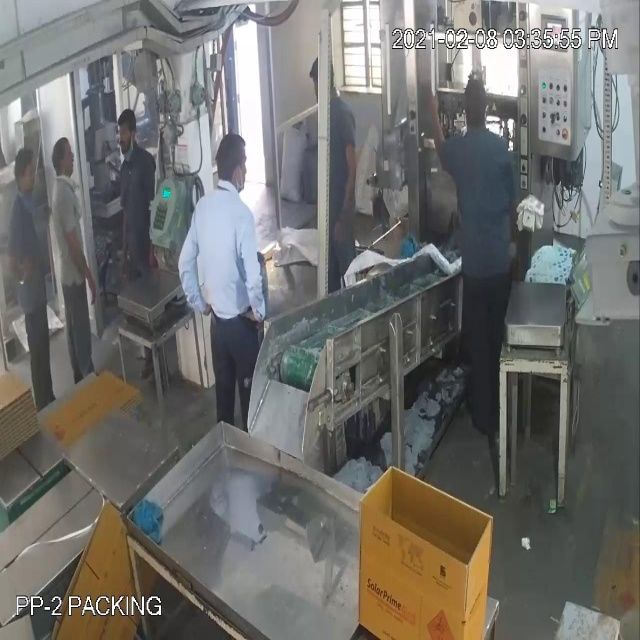Sin_guantes: (163, 221, 214, 336), (239, 220, 272, 346), (62, 209, 99, 303), (333, 132, 360, 241), (5, 226, 39, 298), (114, 178, 133, 287), (424, 81, 445, 156)
